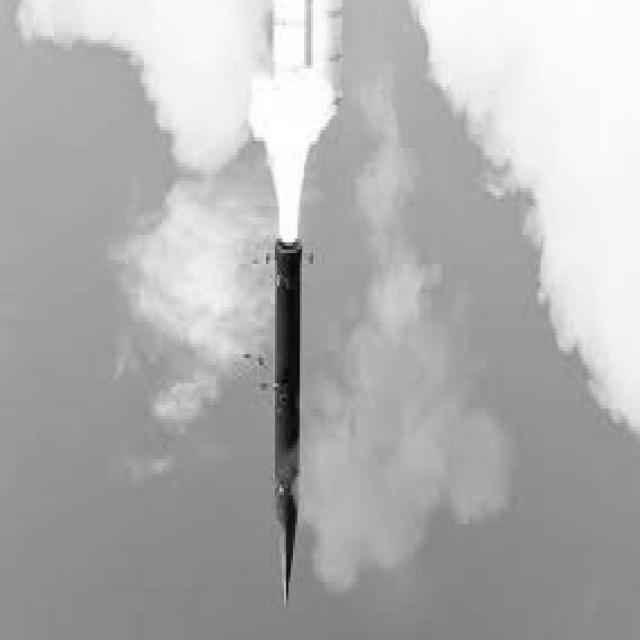Missile: (268, 233, 306, 609)
